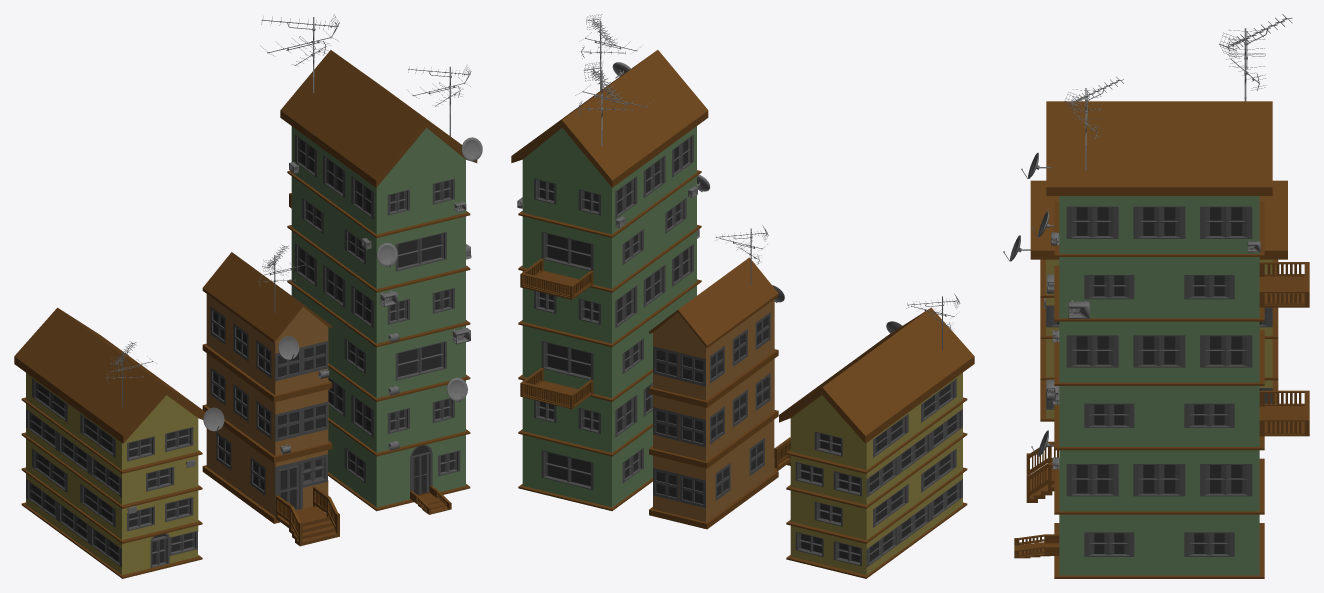
The model's file is huizensettie.fbx.
The picture shows the model from 3 angles, left to right: view 1: azimuth 30°, elevation 25°; view 2: azimuth 150°, elevation 25°; view 3: azimuth 270°, elevation 25°; orthographic projection. The views are drawn at different scales.
Visible parts, largest first — view 1: building_003, satelite.002, antenna_b.001; view 2: building_003, satelite.002, antenna_b.001; view 3: building_003, satelite.002, antenna_b.001.
Boxes of the visible parts, x1=… form: building_003: x1=260, y1=14, x2=482, y2=514; satelite.002: x1=14, y1=307, x2=224, y2=578; antenna_b.001: x1=202, y1=245, x2=339, y2=546; building_003: x1=511, y1=14, x2=709, y2=510; satelite.002: x1=779, y1=293, x2=974, y2=578; antenna_b.001: x1=649, y1=225, x2=790, y2=529; building_003: x1=1014, y1=14, x2=1309, y2=578; satelite.002: x1=1003, y1=180, x2=1287, y2=421; antenna_b.001: x1=1026, y1=441, x2=1058, y2=502.
Size of the model in its own units: 4814 by 5437 by 2942.
